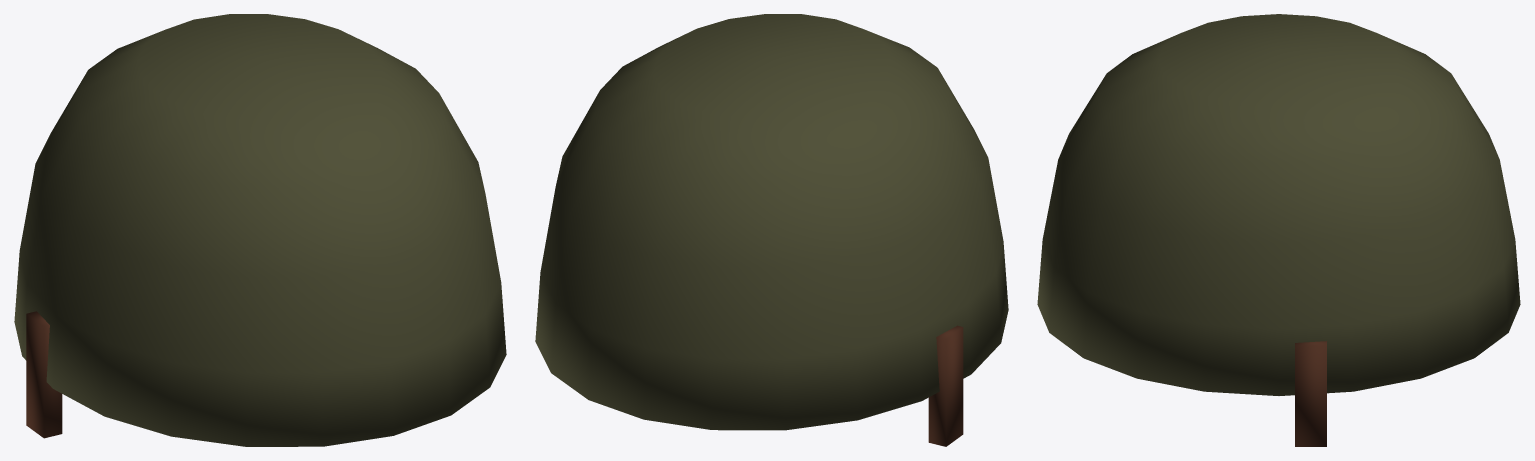
Rendered from tpl_hall_elmetti_m1.glb.
The picture shows the model from 3 angles, left to right: view 1: azimuth 30°, elevation 25°; view 2: azimuth 150°, elevation 25°; view 3: azimuth 270°, elevation 25°; orthographic projection. The views are drawn at different scales.
Parts seen in each view (by area): view 1: tpl_hall_elmetti_m1; view 2: tpl_hall_elmetti_m1; view 3: tpl_hall_elmetti_m1.
Part boxes in pixels (left/top/right/bottom): tpl_hall_elmetti_m1: left=14, top=14, right=506, bottom=446; tpl_hall_elmetti_m1: left=535, top=14, right=1008, bottom=446; tpl_hall_elmetti_m1: left=1037, top=14, right=1520, bottom=446.
Bounding box in the file's own units: 0.272 × 0.21 × 0.3024.
